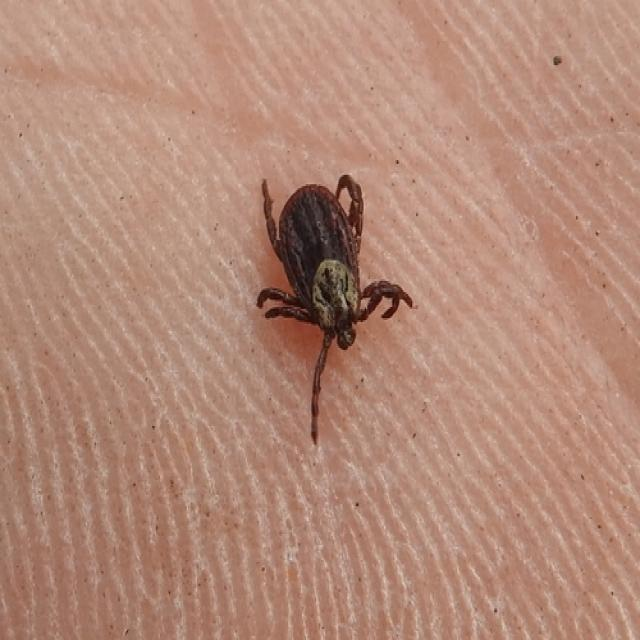Dermacentor Reticulatus-F: (256, 177, 415, 445)
